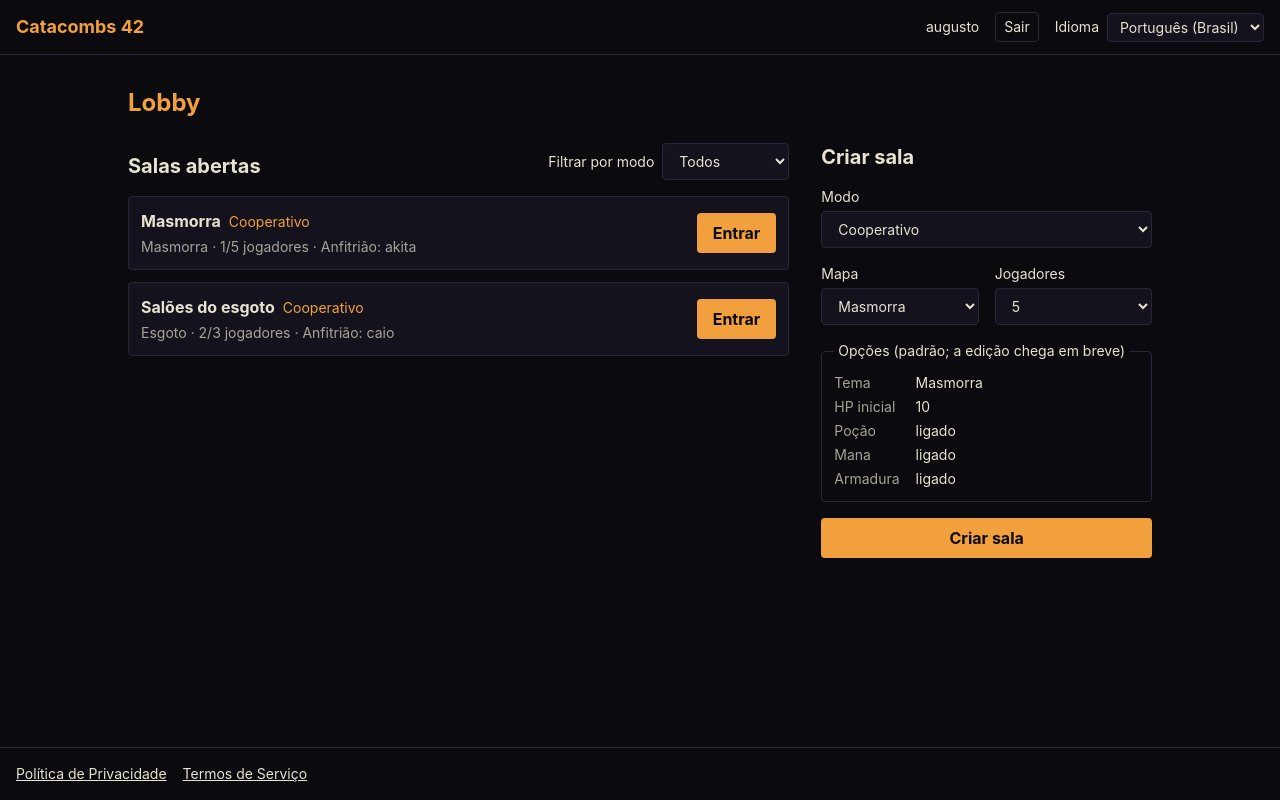
Test: lista de Rooms › erro ao entrar aparece traduzido
Expected: the element "Salas abertas" is shown, [128,143,789,356]
Expected: the text "Masmorra" below "Salas abertas" is shown, [141,211,221,231]
What coordinates should you click on to do the following:
click the button "Entrar" in the row of "1/5 jogadores"
I would click on:
 (736, 233)
Its box is [697,213,776,253].
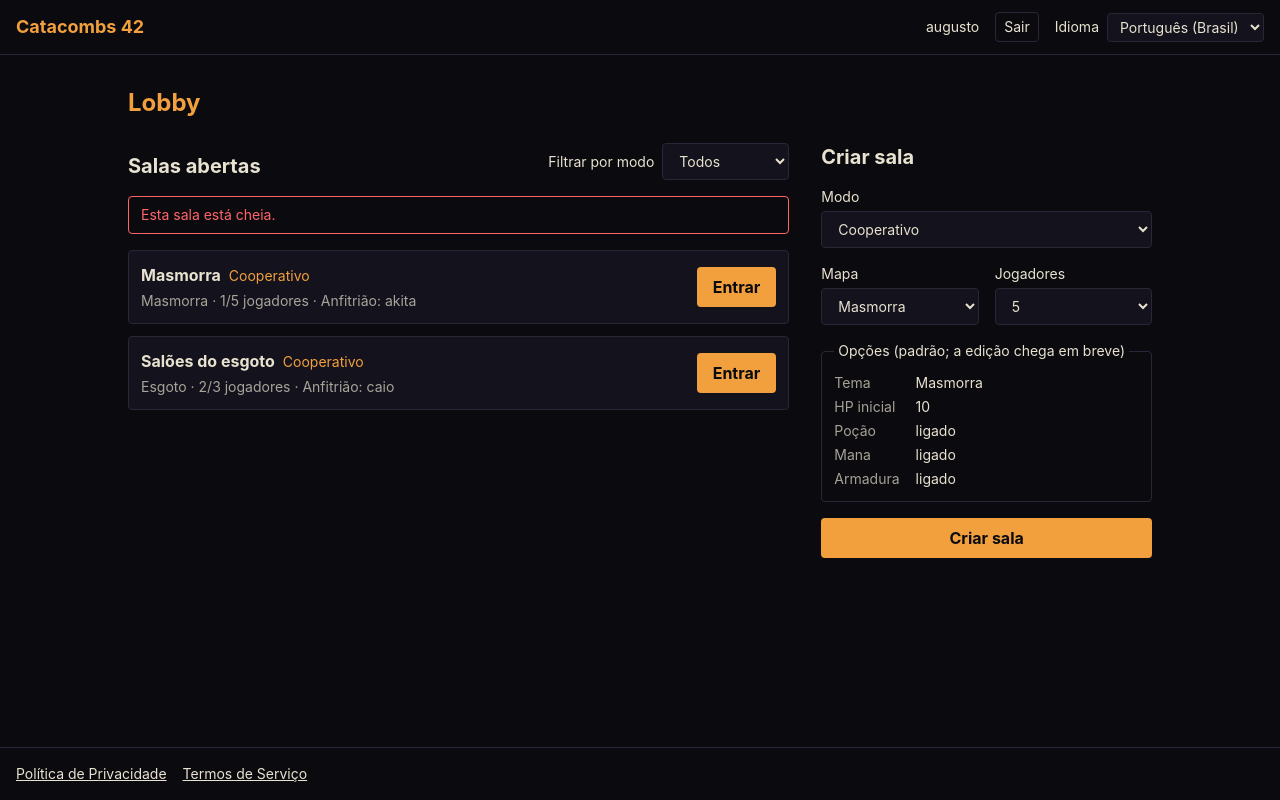
Expected: the message reads "Esta sala está cheia.", [141,206,275,223]
